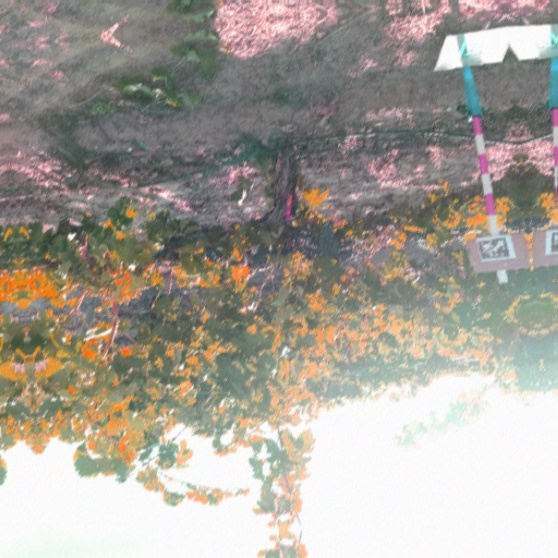QR: (481, 237, 510, 259)
